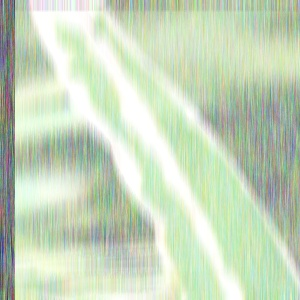Leaf_Blast: (59, 3, 184, 228)
